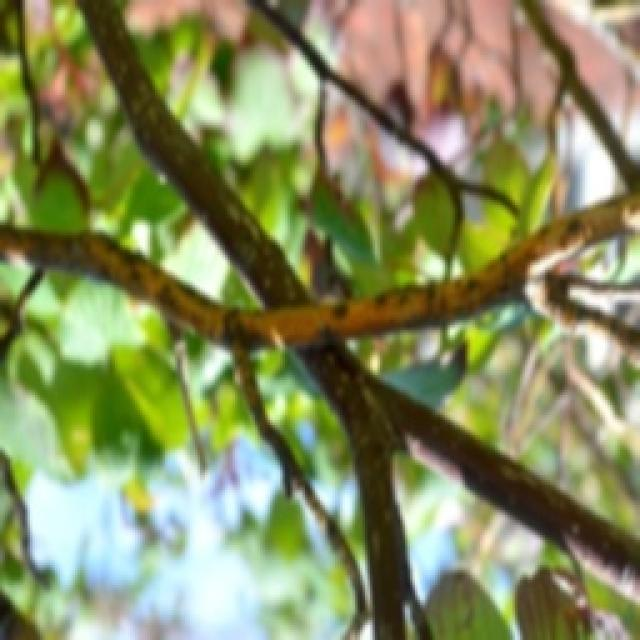Golden_canker: (22, 98, 636, 498)
